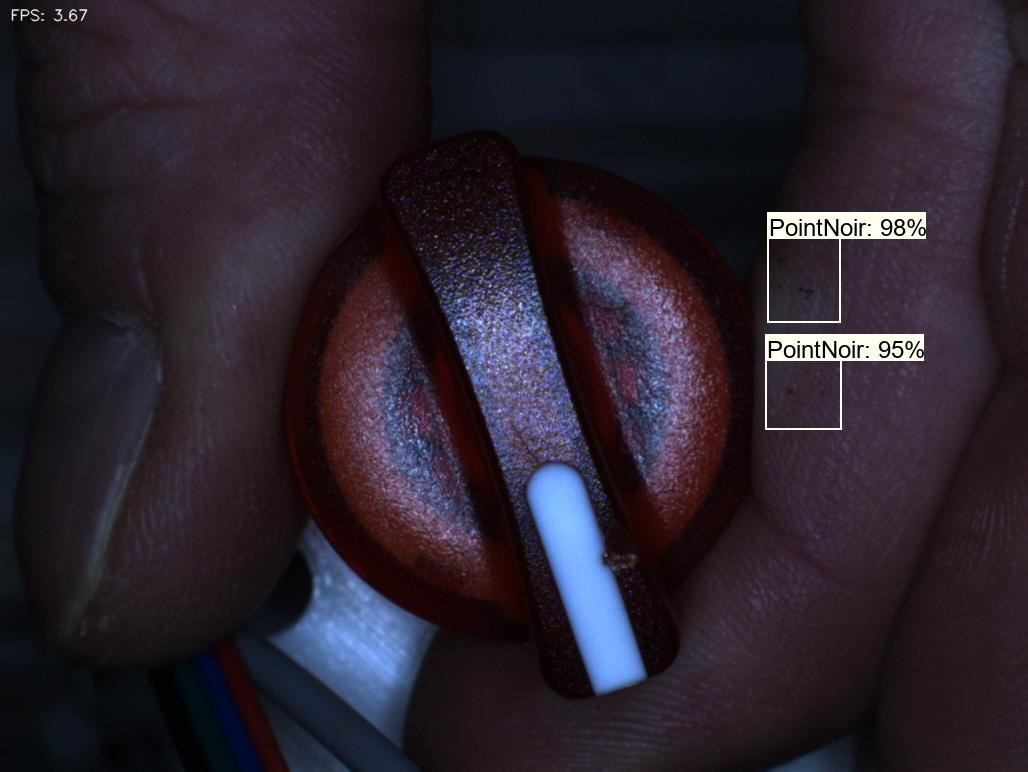Choc: (572, 507, 678, 607)
